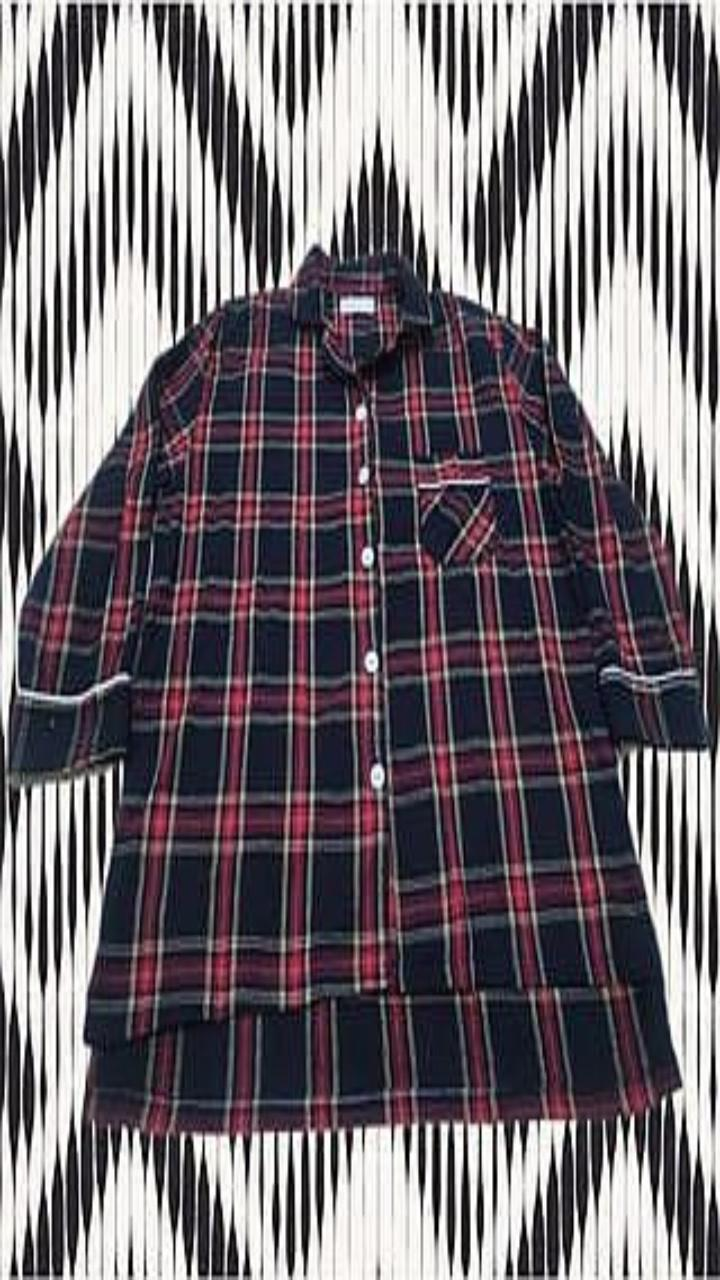Sports_Jacket: (7, 243, 709, 1132)
